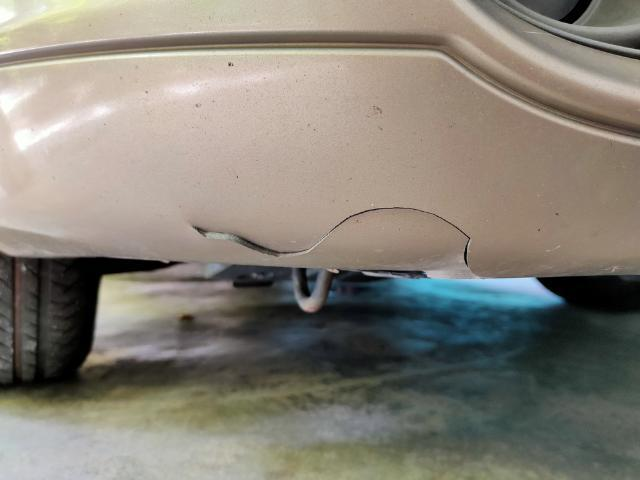Bumper: (169, 185, 565, 296)
